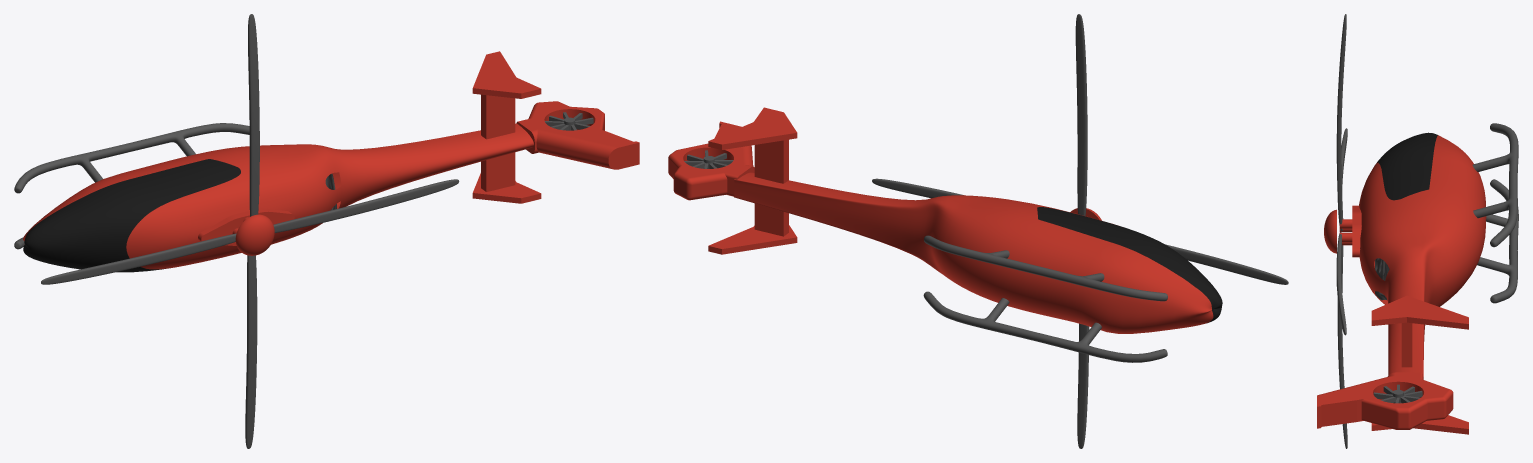
The picture shows the model from 3 angles, left to right: view 1: azimuth 30°, elevation 25°; view 2: azimuth 150°, elevation 25°; view 3: azimuth 270°, elevation 25°; orthographic projection.
Parts seen in each view (by area): view 1: Body4, Body1, Body3, Body37, Body5, Body36, Body10, Body11, Body13, Body12, Body14, Body9; view 2: Body4, Body1, Body3, Body37, Body6, Body5, Body36, Body10, Body11, Body13, Body12; view 3: Body4, Body3, Body1, Body37, Body5, Body6, Body10, Body9, Body36, Body13, Body12, Body35 (+3 smaller).
Boxes of the visible parts, x1,y1,x2,y2 form: Body4: [23, 123, 533, 269]; Body1: [23, 159, 240, 272]; Body3: [516, 101, 639, 169]; Body37: [472, 51, 541, 139]; Body5: [14, 123, 249, 193]; Body36: [472, 152, 541, 203]; Body10: [248, 14, 259, 216]; Body11: [41, 233, 236, 284]; Body13: [245, 255, 257, 448]; Body12: [273, 179, 459, 232]; Body14: [235, 214, 274, 255]; Body9: [198, 208, 294, 245]; Body4: [734, 172, 1213, 333]; Body1: [1037, 207, 1222, 323]; Body3: [668, 121, 754, 200]; Body37: [708, 107, 797, 183]; Body6: [923, 291, 1167, 362]; Body5: [924, 235, 1167, 301]; Body36: [708, 203, 797, 254]; Body10: [1075, 14, 1087, 215]; Body11: [1165, 244, 1288, 284]; Body13: [1077, 323, 1089, 448]; Body12: [872, 178, 963, 198]; Body4: [1359, 135, 1486, 379]; Body3: [1317, 372, 1453, 429]; Body1: [1377, 132, 1437, 200]; Body37: [1371, 295, 1468, 367]; Body5: [1472, 123, 1518, 247]; Body6: [1477, 179, 1518, 303]; Body10: [1336, 14, 1346, 229]; Body9: [1339, 205, 1361, 257]; Body36: [1371, 415, 1468, 434]; Body13: [1337, 245, 1347, 448]; Body12: [1336, 232, 1346, 335]; Body35: [1373, 384, 1422, 403].
Size of the model in its own units: 155 by 109 by 45.94.
